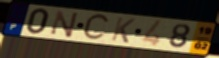0: (25, 8, 51, 36)
4: (140, 19, 163, 49)
8: (168, 23, 192, 49)
C: (81, 13, 111, 42)
K: (110, 16, 137, 45)
N: (49, 10, 80, 39)
